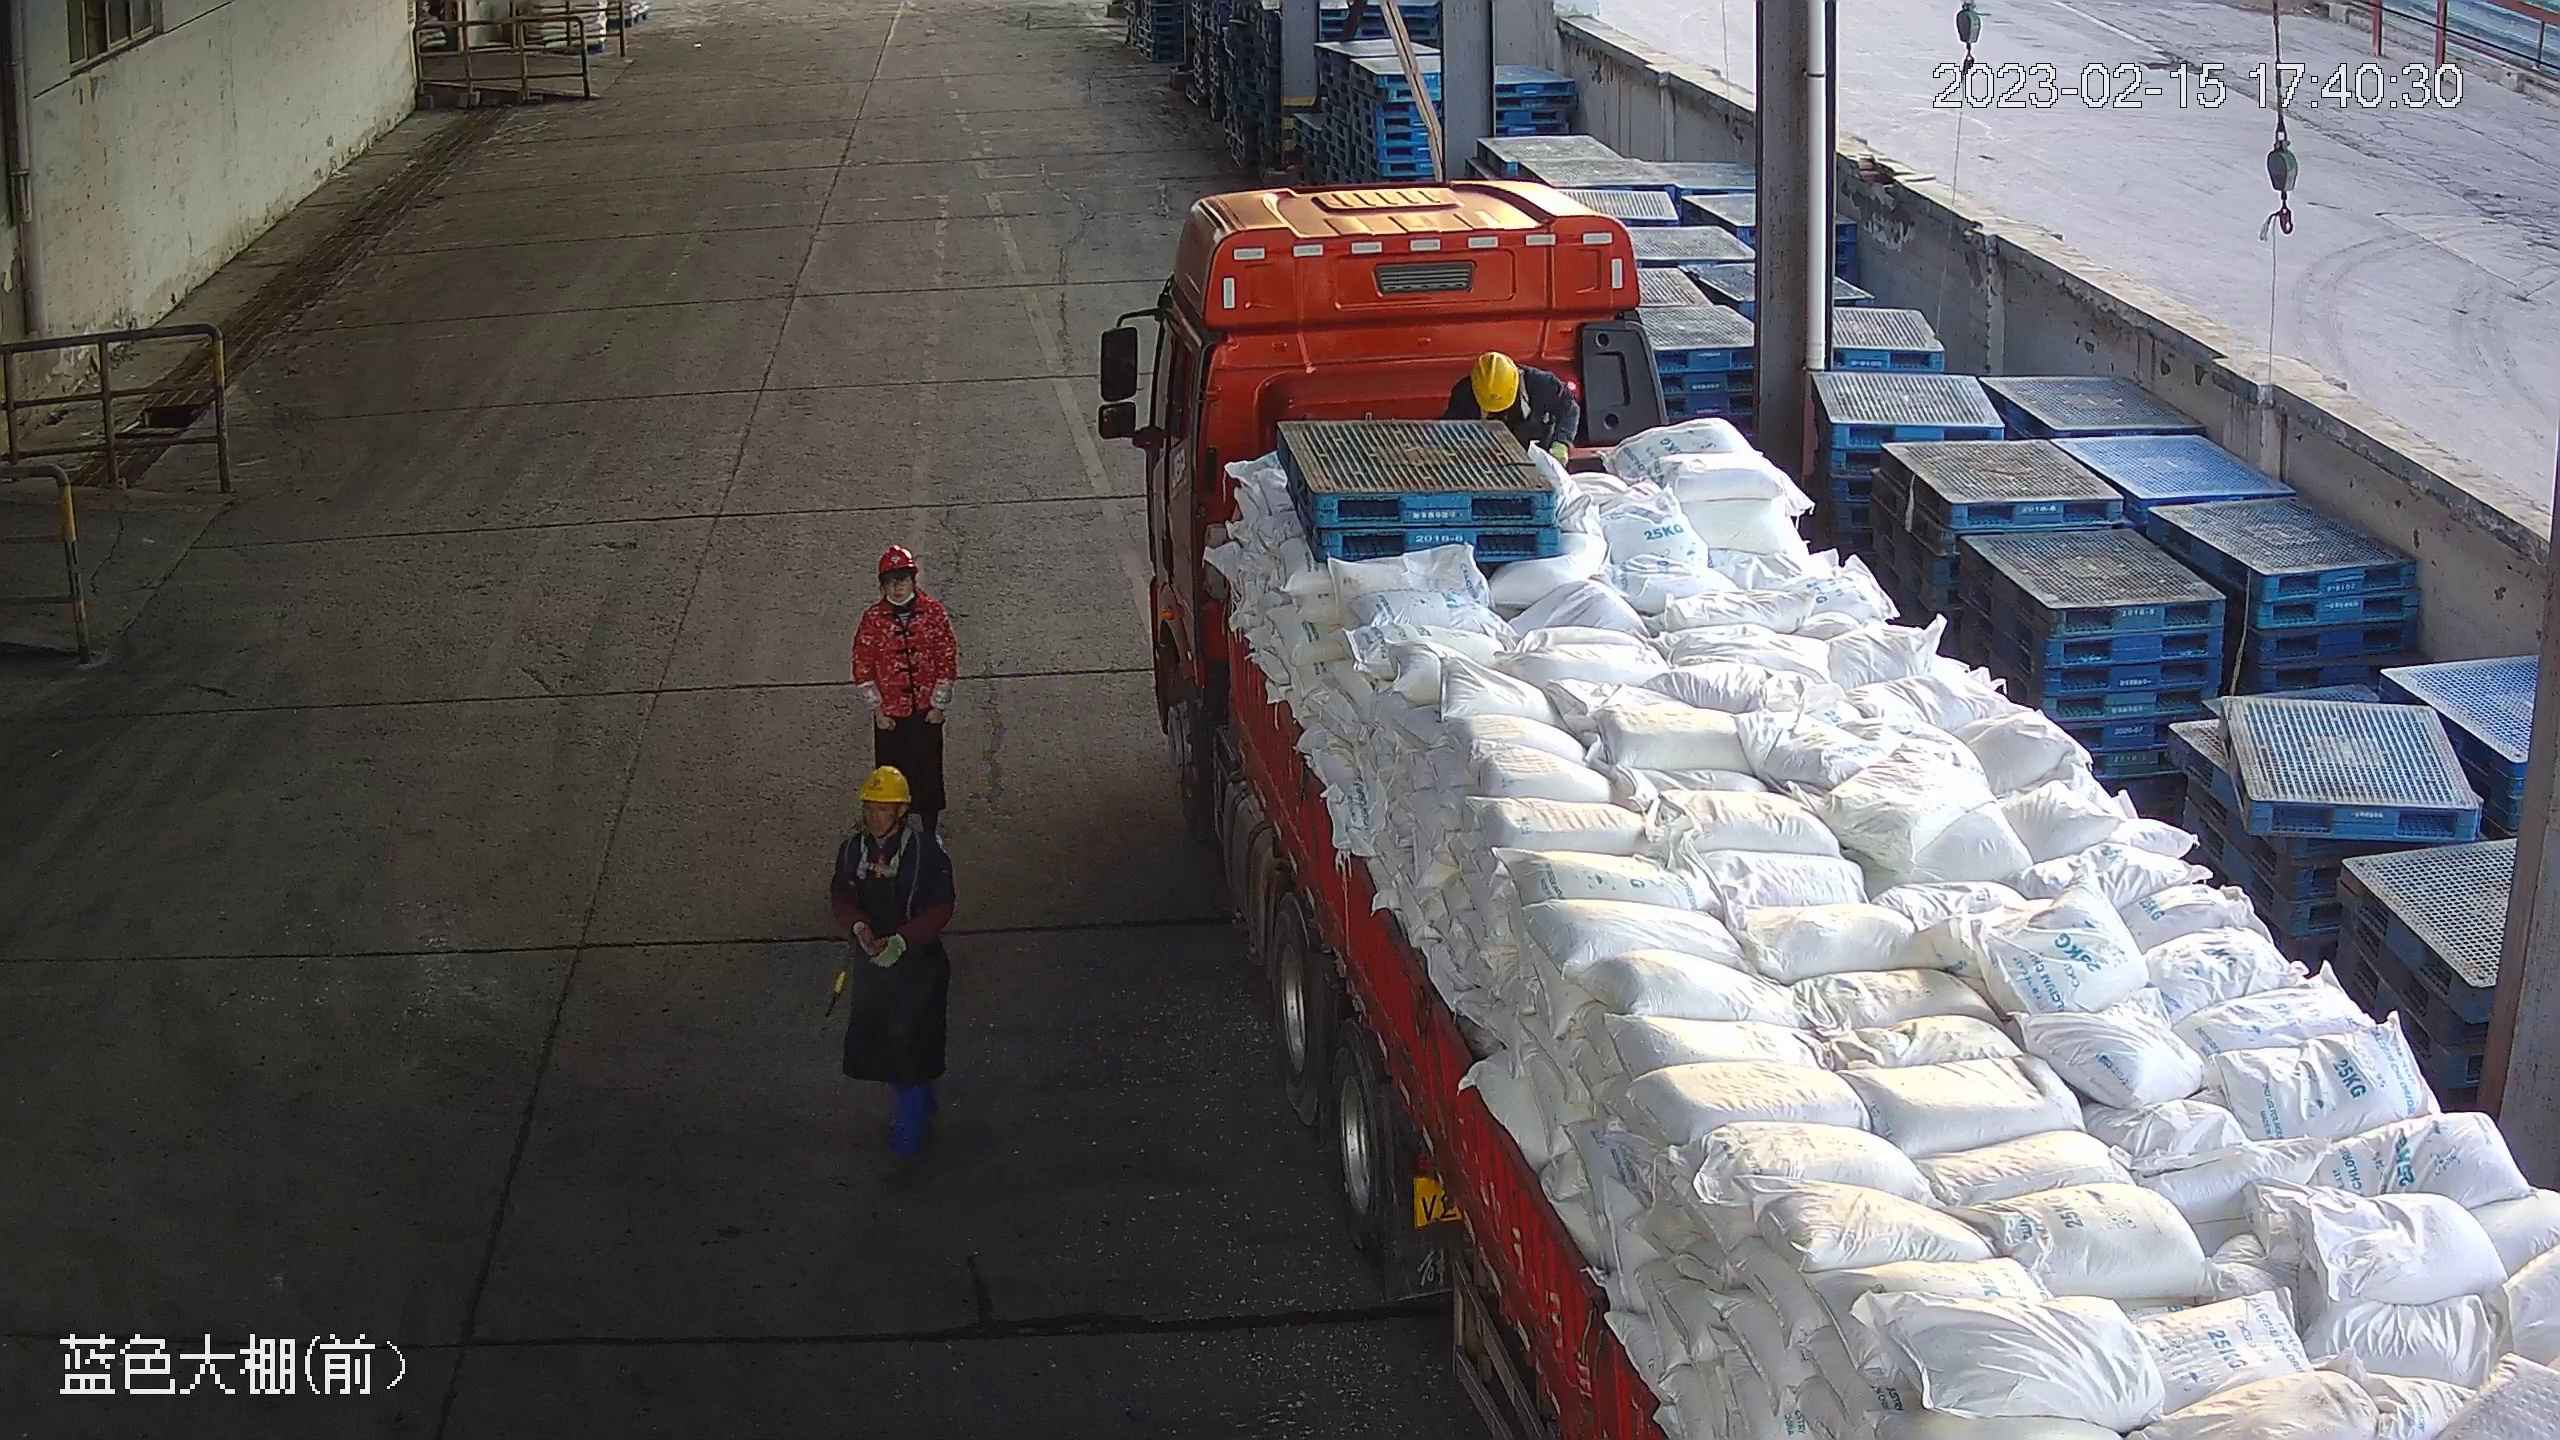belt: (839, 827, 913, 888), (1479, 365, 1538, 428)
head: (830, 763, 952, 876), (1441, 349, 1568, 414), (858, 544, 948, 627)
helmet: (1469, 351, 1519, 410), (856, 764, 910, 805), (875, 544, 917, 579)
people: (831, 766, 962, 1153), (843, 543, 954, 838)
truck: (1131, 177, 2560, 1440)
